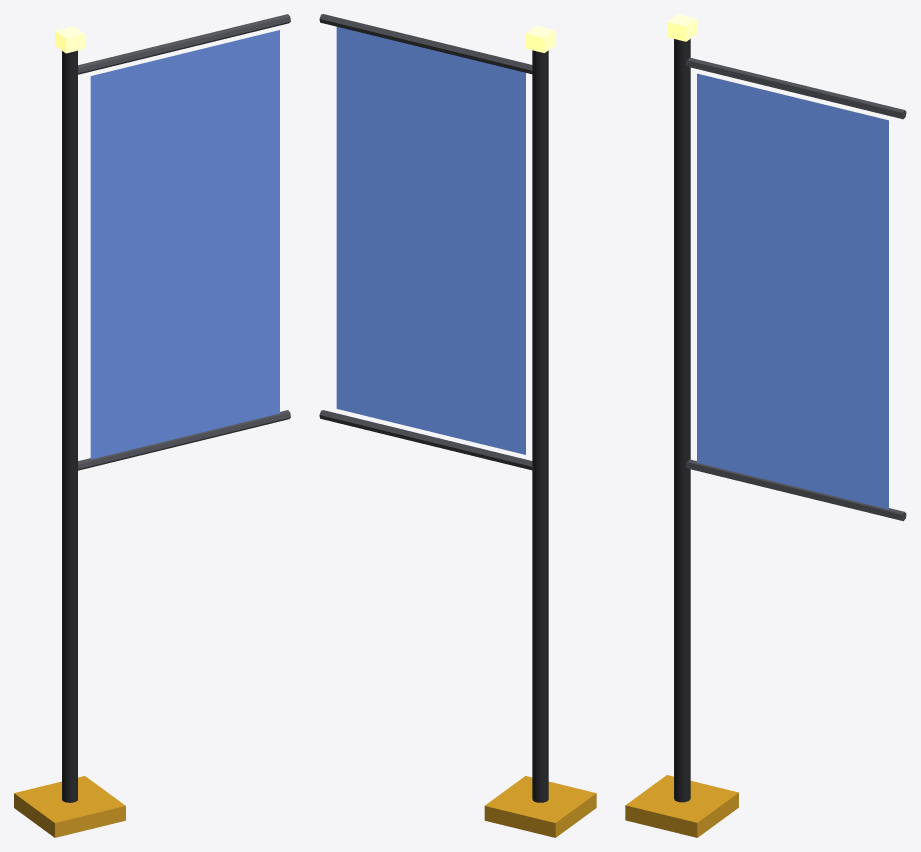
The model's file is Ad_Flag.glb.
3 renders of one model, left to right at view 1: azimuth 30°, elevation 25°; view 2: azimuth 150°, elevation 25°; view 3: azimuth 330°, elevation 25°, orthographic.
Visible parts, largest first — view 1: Ad_Flag; view 2: Ad_Flag; view 3: Ad_Flag.
Part boxes in pixels (x1,y1,x2,y2): Ad_Flag: [14, 14, 290, 837]; Ad_Flag: [319, 14, 596, 837]; Ad_Flag: [625, 14, 906, 837].
Size of the model in its own units: 2.15 by 6.32 by 0.6.
